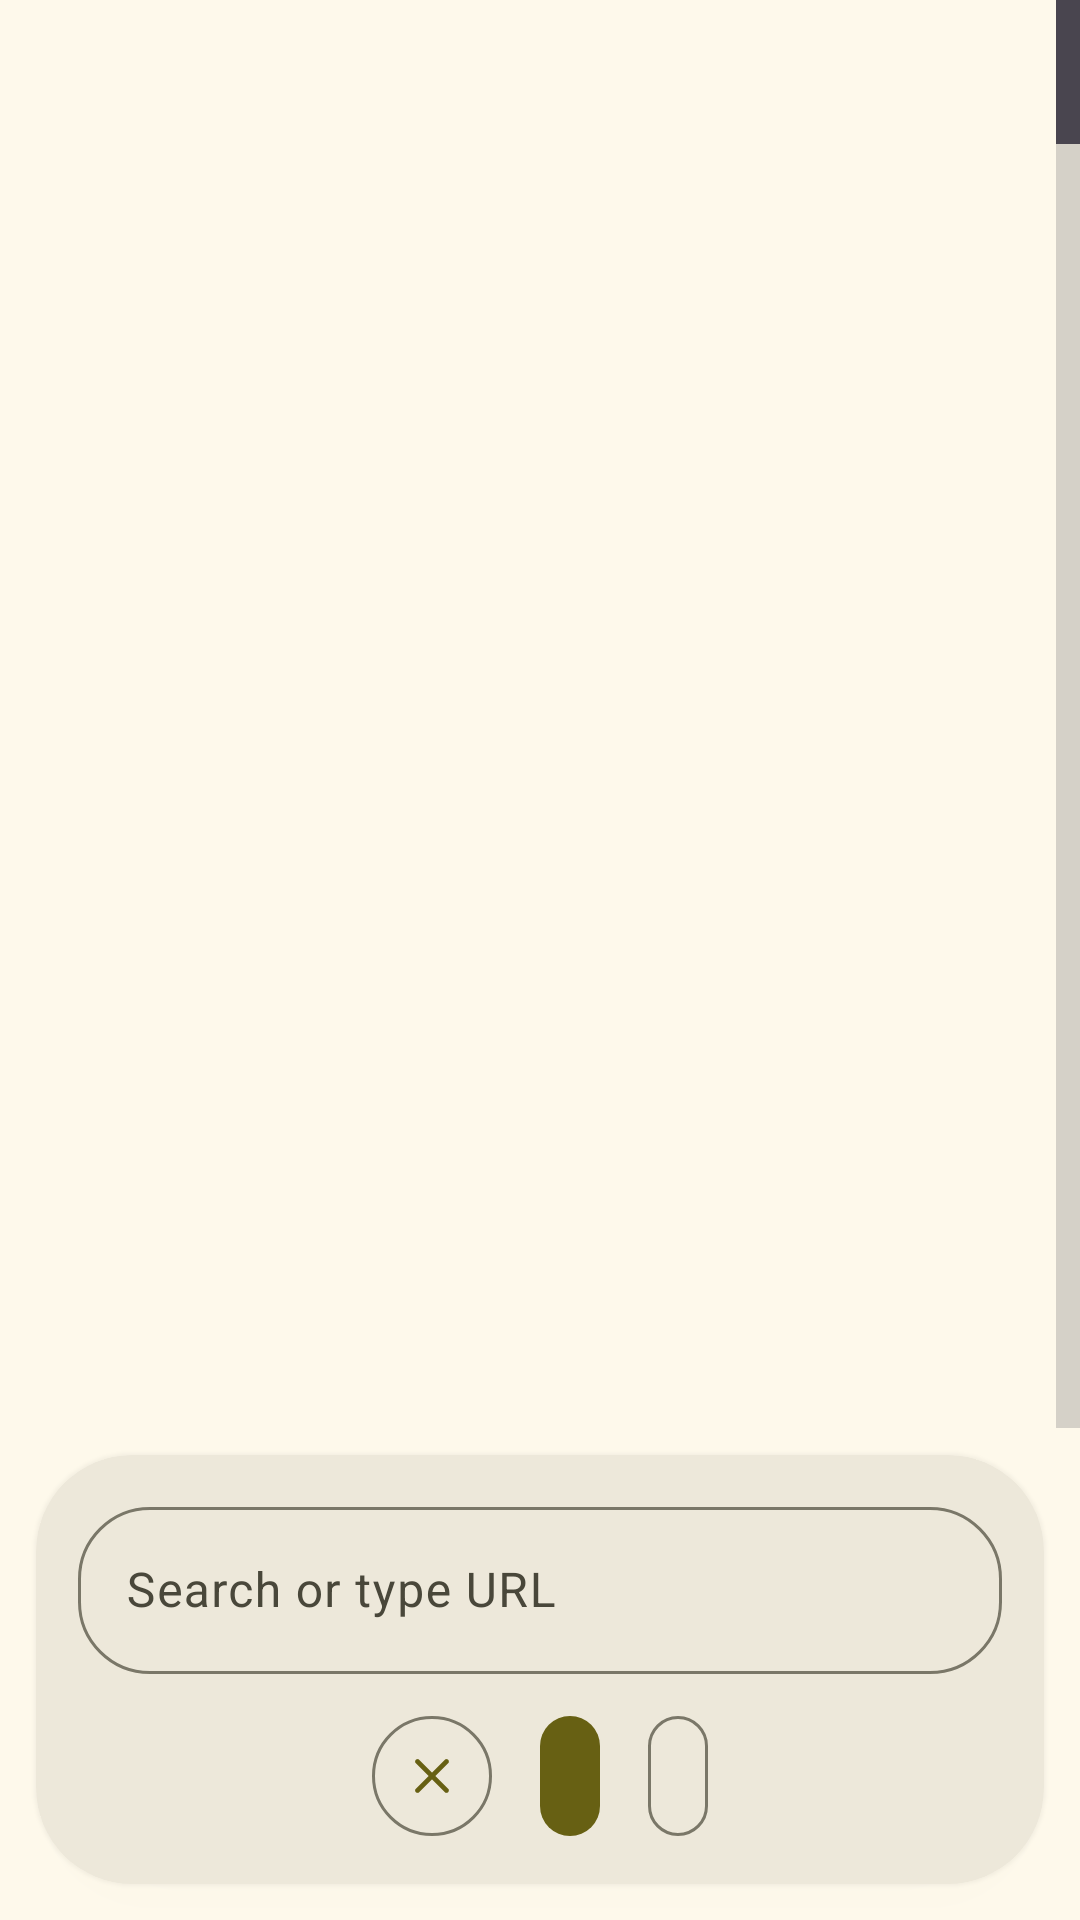

Where to tap for icons on this 1080px x 1920px app screen, as (x=x, y=y):
close: (x=432, y=1776)
